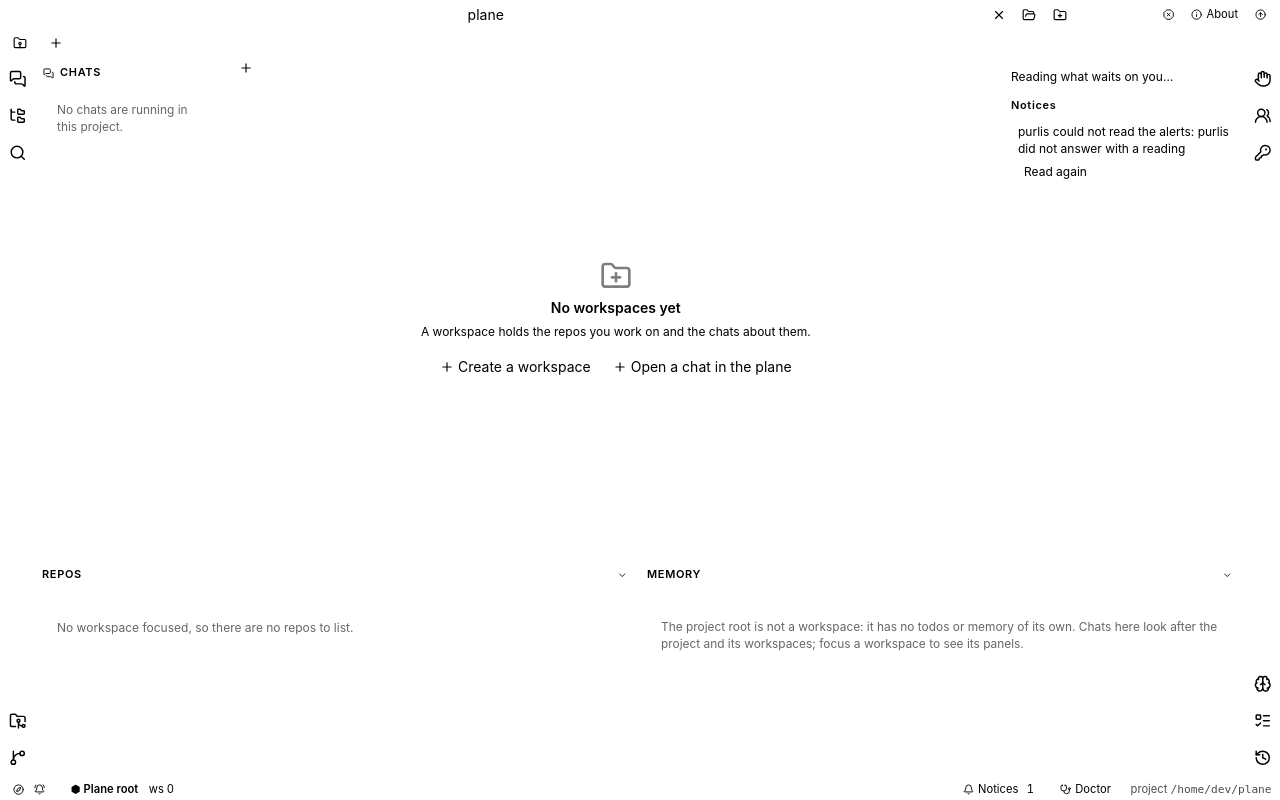
Scenario: making a project › is on the project strip too, beside the one that opens a project that exists
Check: the tab "plane" is shown, box [8,0,963,29]
Click the button named "New project…" at (1060, 15), box [1046,4,1073,25]
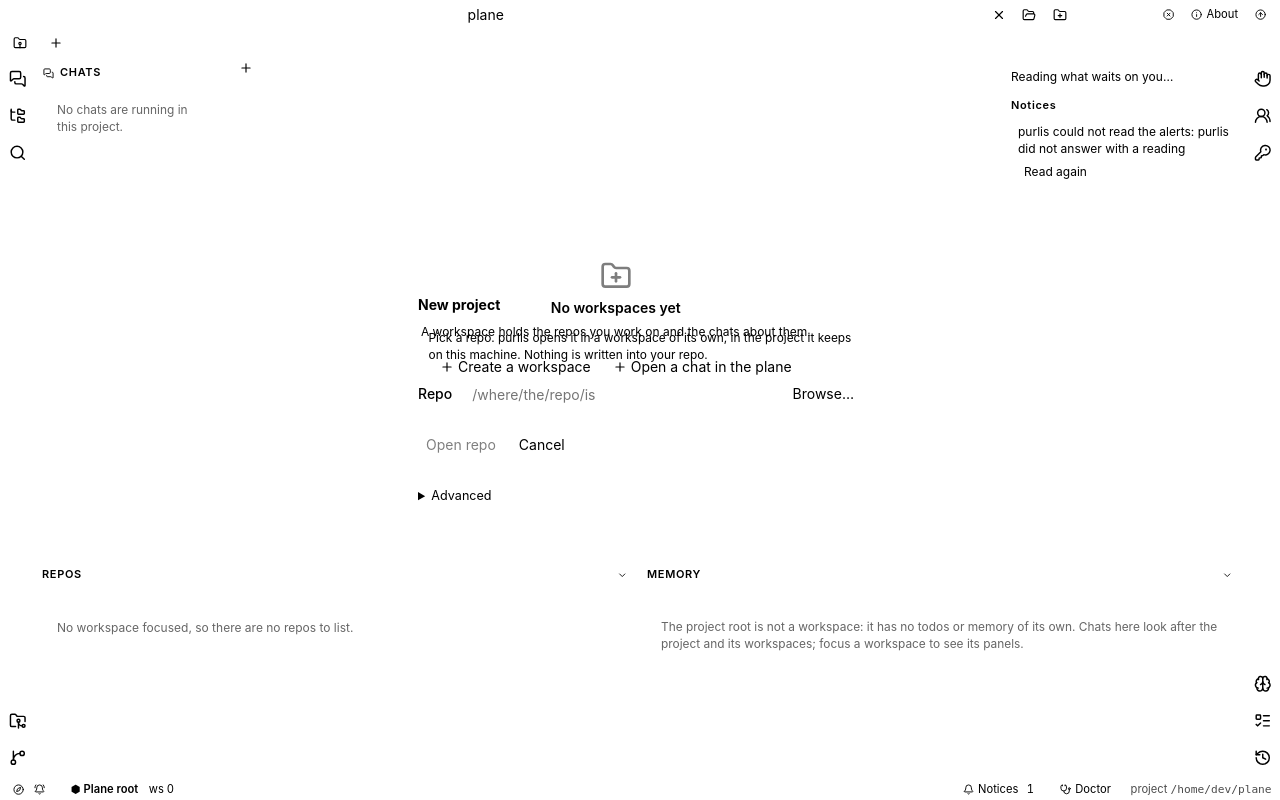
Check: the dialog "New project" is shown, box [402,279,878,521]
